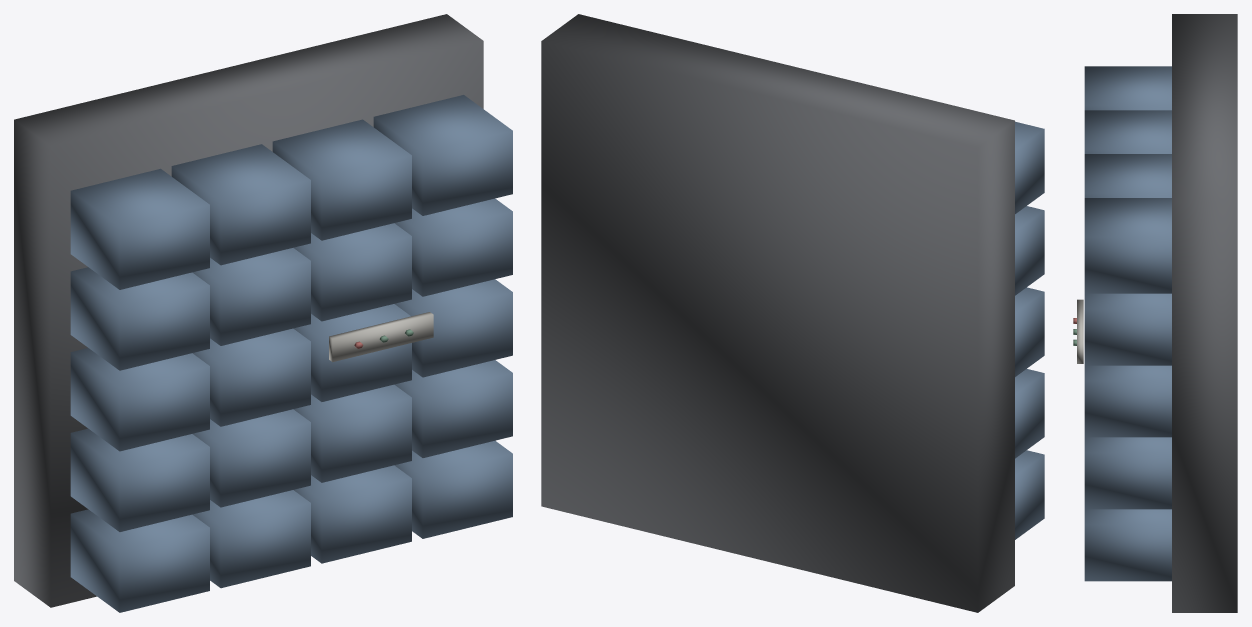
The model's file is parts_bin_rack__squat.glb.
3 views of the same model, side by side, from view 1: azimuth 30°, elevation 25°; view 2: azimuth 150°, elevation 25°; view 3: azimuth 270°, elevation 25° (orthographic). The views are drawn at different scales.
Visible parts, largest first — view 1: world; view 2: world; view 3: world.
Boxes of the visible parts, x1,y1,x2,y2 form: world: (14, 14, 512, 612); world: (541, 14, 1044, 612); world: (1073, 14, 1237, 612).
Size of the model in its own units: 1.32 by 1.34 by 0.4871.
